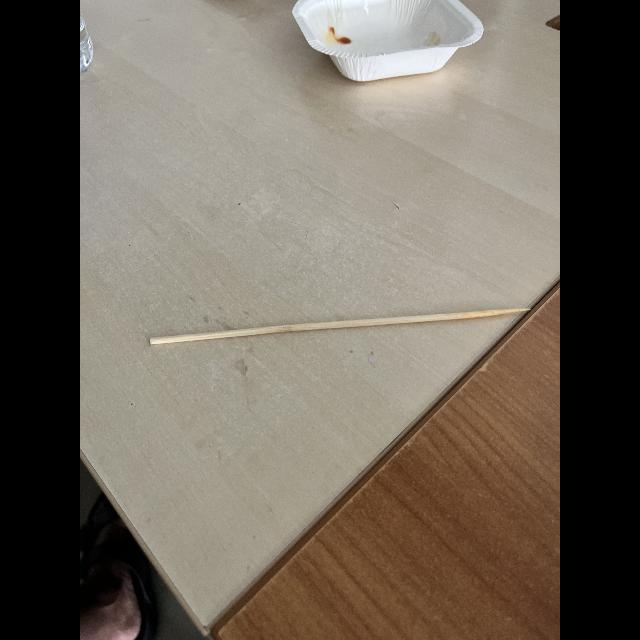cardboard_bowl: (287, 0, 495, 100)
stick: (134, 284, 542, 376)
